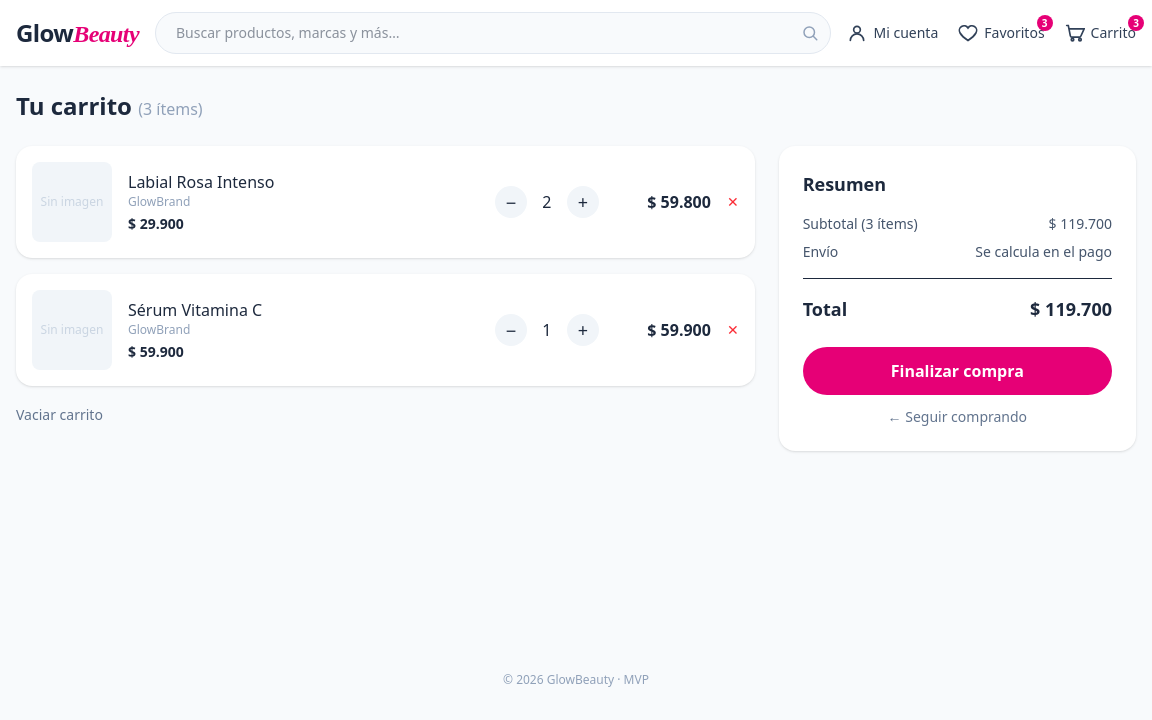
Test: CartPage – carrito con ítems › el botón Eliminar quita el producto del carrito
This screenshot has width=1152, height=720.
# Eliminar el primer producto
Step 1. Click the button named "eliminar" → click(733, 202), box [727,192,739,212]
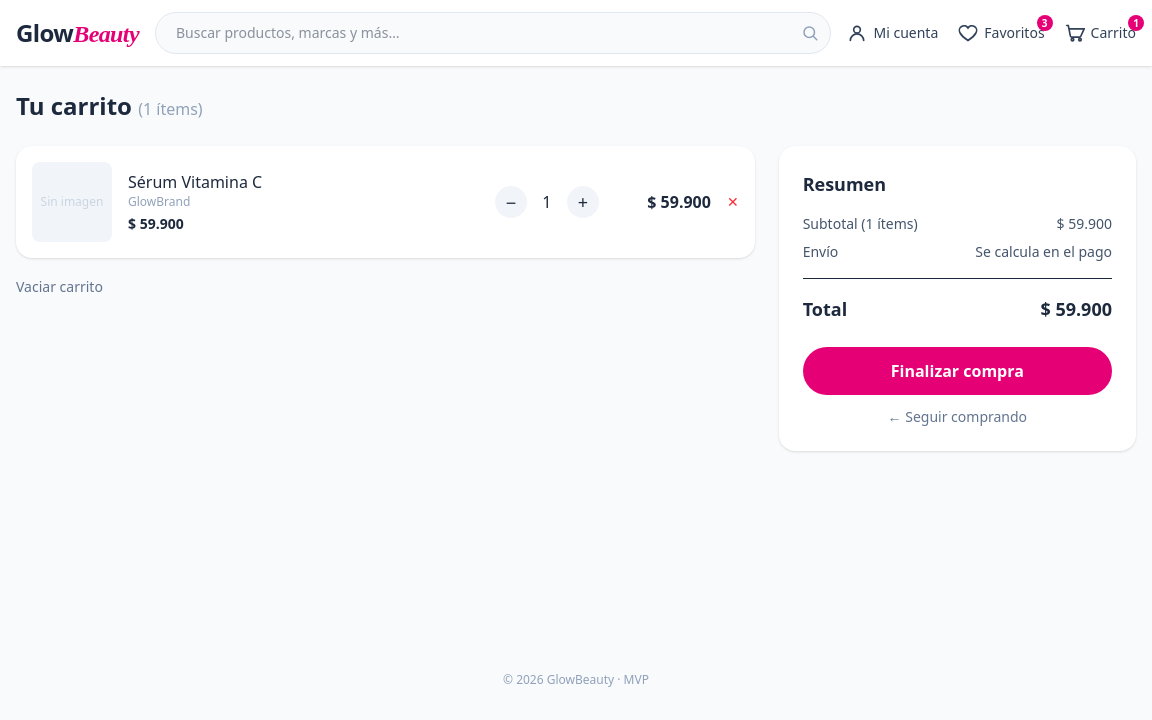
Expected: the link "Sérum Vitamina C" is shown, [128,171,262,193]
Expected: the link "Labial Rosa Intenso" is gone
